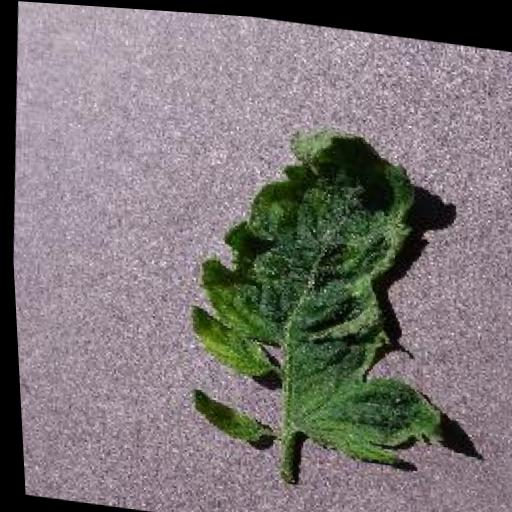Mosaic Virus: (169, 100, 461, 471)
